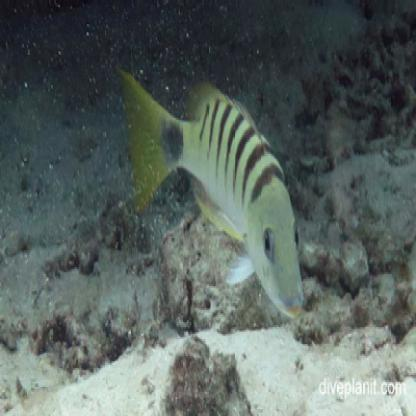snapper: (116, 56, 312, 331)
